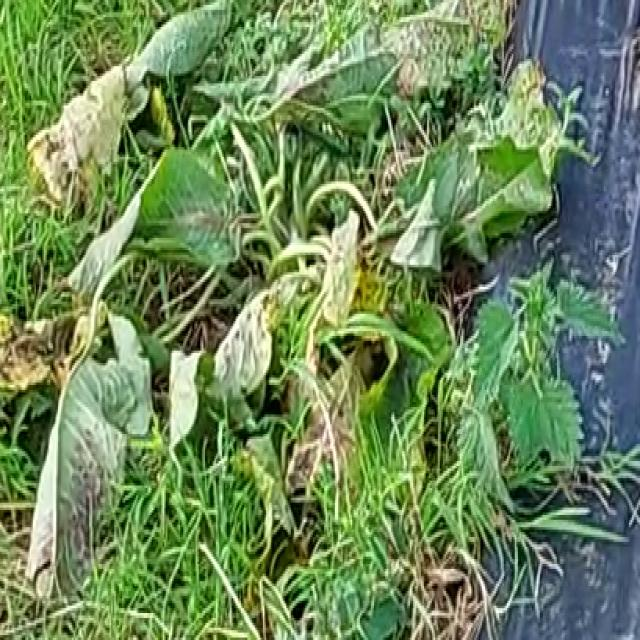organic waste: (13, 17, 585, 589)
